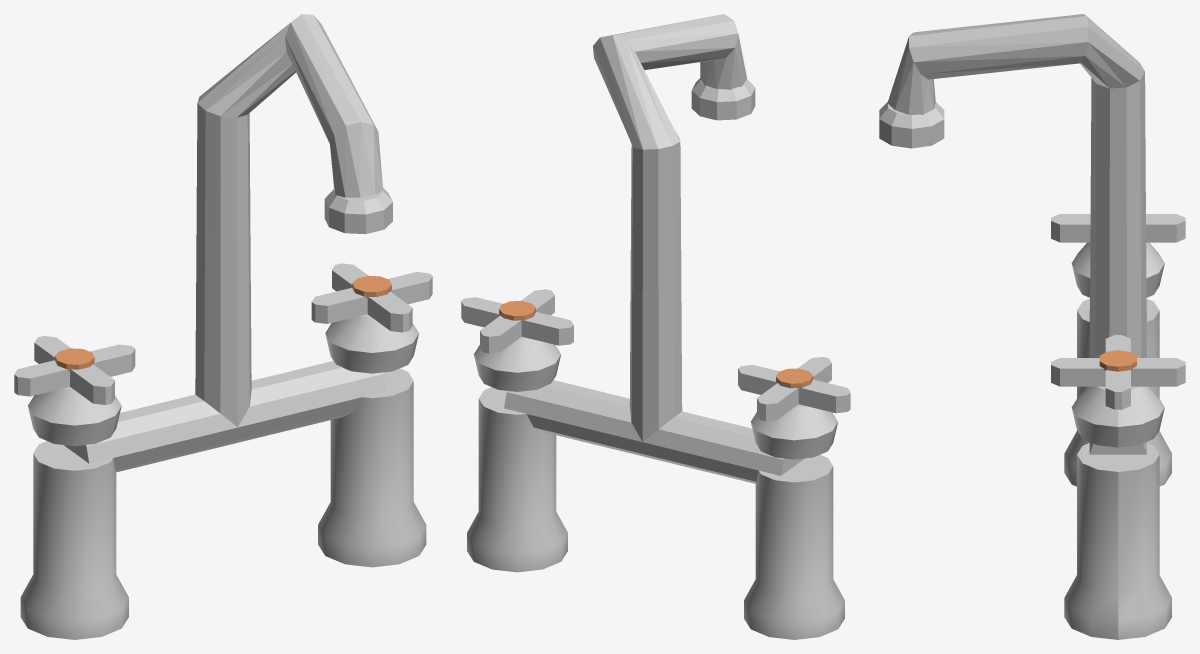
Rendered from home-appliances-and-utility-tap-mixer-bridge-d792591f__14116.glb.
The picture shows the model from 3 angles, left to right: view 1: azimuth 30°, elevation 25°; view 2: azimuth 150°, elevation 25°; view 3: azimuth 270°, elevation 25°; orthographic projection. The views are drawn at different scales.
Parts seen in each view (by area): view 1: tap-mixer-bridge; view 2: tap-mixer-bridge; view 3: tap-mixer-bridge.
Boxes of the visible parts, x1=… form: tap-mixer-bridge: x1=14, y1=14, x2=432, y2=639; tap-mixer-bridge: x1=461, y1=14, x2=850, y2=639; tap-mixer-bridge: x1=879, y1=14, x2=1185, y2=639.
Bounding box in the file's own units: 0.265 × 0.3438 × 0.1706.
